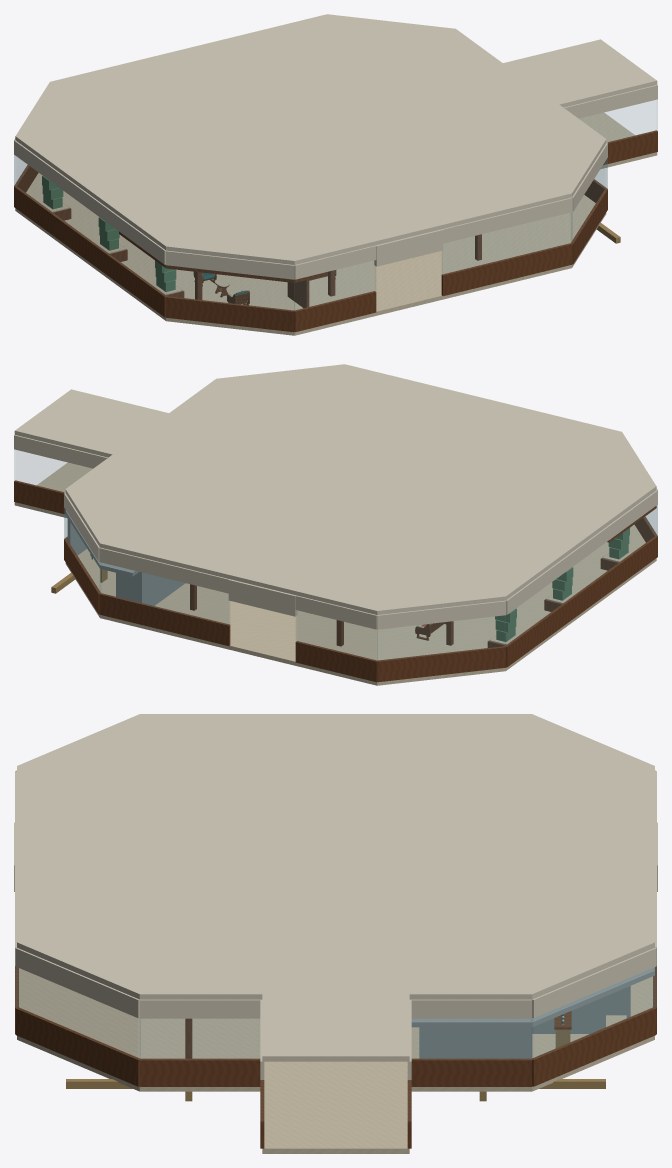
Rendered from D04_PORT_CENTRAL_CO_r003.glb.
The picture shows the model from 3 angles, top to bottom: view 1: azimuth 30°, elevation 25°; view 2: azimuth 150°, elevation 25°; view 3: azimuth 270°, elevation 25°; orthographic projection. The views are drawn at different scales.
Parts seen in each view (by area): view 1: PCC_CommonsRoof, PCC_CommonsFloor, PCC_PerimeterGlass_11_0, PCC_PerimeterGlass_9_1, PCC_PerimeterGlass_10_0, PCC_PerimeterDado_11_0, PCC_PerimeterDado_9_1, PCC_PerimeterDado_10_0, PCC_PerimeterGlass_9_0, PCC_PerimeterHead_11_0, PCC_PerimeterHead_9_1, PCC_PerimeterHead_10_0 (+11 smaller); view 2: PCC_CommonsRoof, PCC_CommonsFloor, PCC_PerimeterGlass_11_0, PCC_PerimeterGlass_1_1, PCC_PerimeterGlass_0_0, PCC_PerimeterDado_11_0, PCC_PerimeterDado_1_1, PCC_PerimeterDado_0_0, PCC_PerimeterGlass_1_0, PCC_PerimeterHead_11_0, PCC_PerimeterHead_1_1, PCC_PerimeterHead_0_0 (+12 smaller); view 3: PCC_CommonsRoof, PCC_CommonsFloor, PCC_PerimeterGlass_8_0, PCC_PerimeterGlass_7_0, PCC_PerimeterGlass_2_0, PCC_PerimeterGlass_3_0, PCC_PerimeterDado_2_0, PCC_PerimeterDado_8_0, PCC_ServiceEast, PCC_PerimeterDado_7_0, PCC_PerimeterDado_3_0, PCC_PerimeterHead_2_0 (+6 smaller).
Part boxes in pixels (x1=…): PCC_CommonsRoof: x1=15, y1=14, x2=657, y2=264; PCC_CommonsFloor: x1=15, y1=112, x2=657, y2=335; PCC_PerimeterGlass_11_0: x1=14, y1=155, x2=166, y2=295; PCC_PerimeterGlass_9_1: x1=442, y1=213, x2=572, y2=274; PCC_PerimeterGlass_10_0: x1=166, y1=268, x2=294, y2=310; PCC_PerimeterDado_11_0: x1=14, y1=186, x2=166, y2=317; PCC_PerimeterDado_9_1: x1=441, y1=243, x2=572, y2=295; PCC_PerimeterDado_10_0: x1=165, y1=296, x2=294, y2=332; PCC_PerimeterGlass_9_0: x1=294, y1=261, x2=375, y2=310; PCC_PerimeterHead_11_0: x1=14, y1=140, x2=165, y2=264; PCC_PerimeterHead_9_1: x1=442, y1=197, x2=572, y2=243; PCC_PerimeterHead_10_0: x1=165, y1=250, x2=294, y2=279; PCC_CommonsRoof: x1=14, y1=364, x2=656, y2=614; PCC_CommonsFloor: x1=14, y1=462, x2=656, y2=685; PCC_PerimeterGlass_11_0: x1=505, y1=505, x2=657, y2=645; PCC_PerimeterGlass_1_1: x1=99, y1=563, x2=229, y2=624; PCC_PerimeterGlass_0_0: x1=377, y1=616, x2=505, y2=660; PCC_PerimeterDado_11_0: x1=505, y1=536, x2=657, y2=667; PCC_PerimeterDado_1_1: x1=99, y1=593, x2=230, y2=645; PCC_PerimeterDado_0_0: x1=377, y1=646, x2=506, y2=682; PCC_PerimeterGlass_1_0: x1=296, y1=611, x2=377, y2=660; PCC_PerimeterHead_11_0: x1=506, y1=490, x2=657, y2=614; PCC_PerimeterHead_1_1: x1=99, y1=547, x2=229, y2=593; PCC_PerimeterHead_0_0: x1=377, y1=600, x2=506, y2=629; PCC_CommonsRoof: x1=17, y1=714, x2=654, y2=1061; PCC_CommonsFloor: x1=17, y1=968, x2=654, y2=1153; PCC_PerimeterGlass_8_0: x1=16, y1=967, x2=140, y2=1058; PCC_PerimeterGlass_7_0: x1=140, y1=1019, x2=259, y2=1059; PCC_PerimeterGlass_2_0: x1=531, y1=967, x2=655, y2=1058; PCC_PerimeterGlass_3_0: x1=412, y1=1019, x2=531, y2=1059; PCC_PerimeterDado_2_0: x1=531, y1=1007, x2=656, y2=1086; PCC_PerimeterDado_8_0: x1=15, y1=1007, x2=139, y2=1086; PCC_ServiceEast: x1=419, y1=1027, x2=532, y2=1058; PCC_PerimeterDado_7_0: x1=139, y1=1058, x2=260, y2=1086; PCC_PerimeterDado_3_0: x1=411, y1=1058, x2=532, y2=1086; PCC_PerimeterHead_2_0: x1=532, y1=948, x2=656, y2=1018.
Bounding box in the file's own units: 33.08 × 5.22 × 26.24.
Materials: 81 (77 with a texture image).
